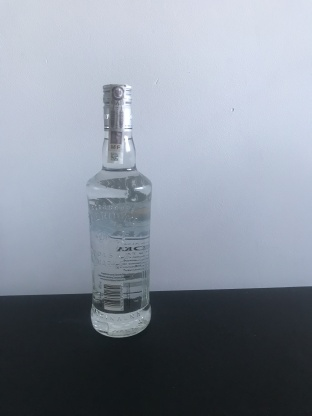nakretka: (100, 79, 135, 135)
